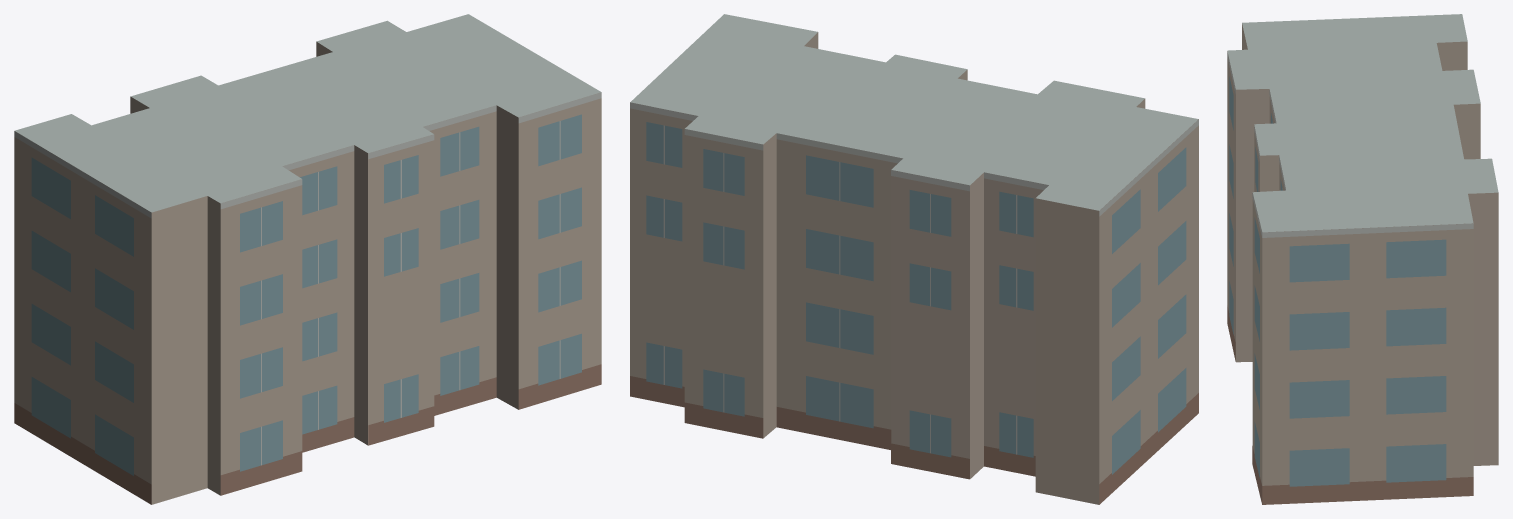
Rendered from survey-upis-32756461.glb.
3 renders of one model, left to right at view 1: azimuth 30°, elevation 25°; view 2: azimuth 150°, elevation 25°; view 3: azimuth 270°, elevation 25°, orthographic. The views are drawn at different scales.
Visible parts, largest first — view 1: survey-upis-32756461.tmp; view 2: survey-upis-32756461.tmp; view 3: survey-upis-32756461.tmp.
Part boxes in pixels (x1,y1,x2,y2): survey-upis-32756461.tmp: (14, 14, 601, 504); survey-upis-32756461.tmp: (630, 14, 1198, 504); survey-upis-32756461.tmp: (1227, 14, 1498, 504).
Bounding box in the file's own units: 20.29 × 11.8 × 10.66.
